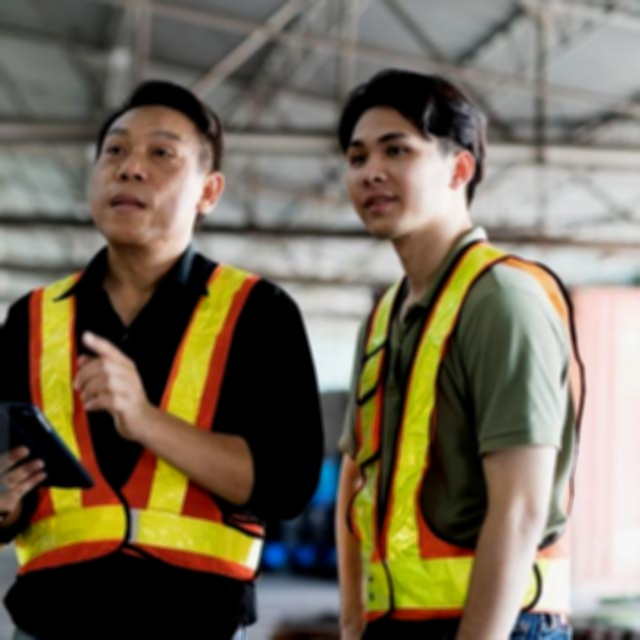Con_Chaleco: (4, 258, 283, 582), (339, 248, 578, 626)
Sin_Casco_Mascarrilla: (336, 68, 488, 240), (86, 78, 223, 250)
